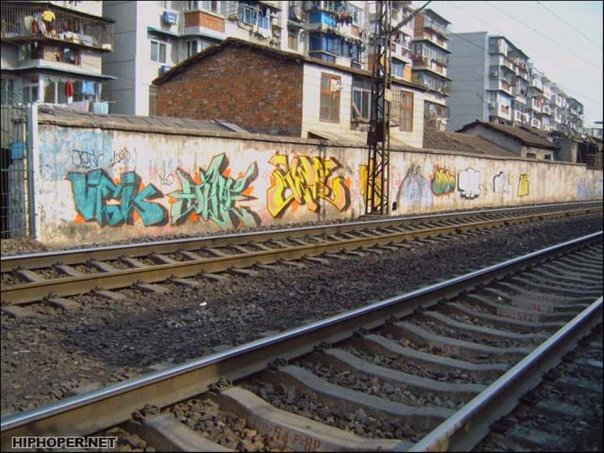graffity: (166, 151, 263, 230), (62, 168, 172, 229), (267, 149, 352, 216), (355, 158, 392, 212), (396, 163, 434, 213), (455, 158, 484, 205), (67, 145, 109, 174), (429, 165, 458, 199), (493, 167, 509, 196), (514, 173, 533, 197)
